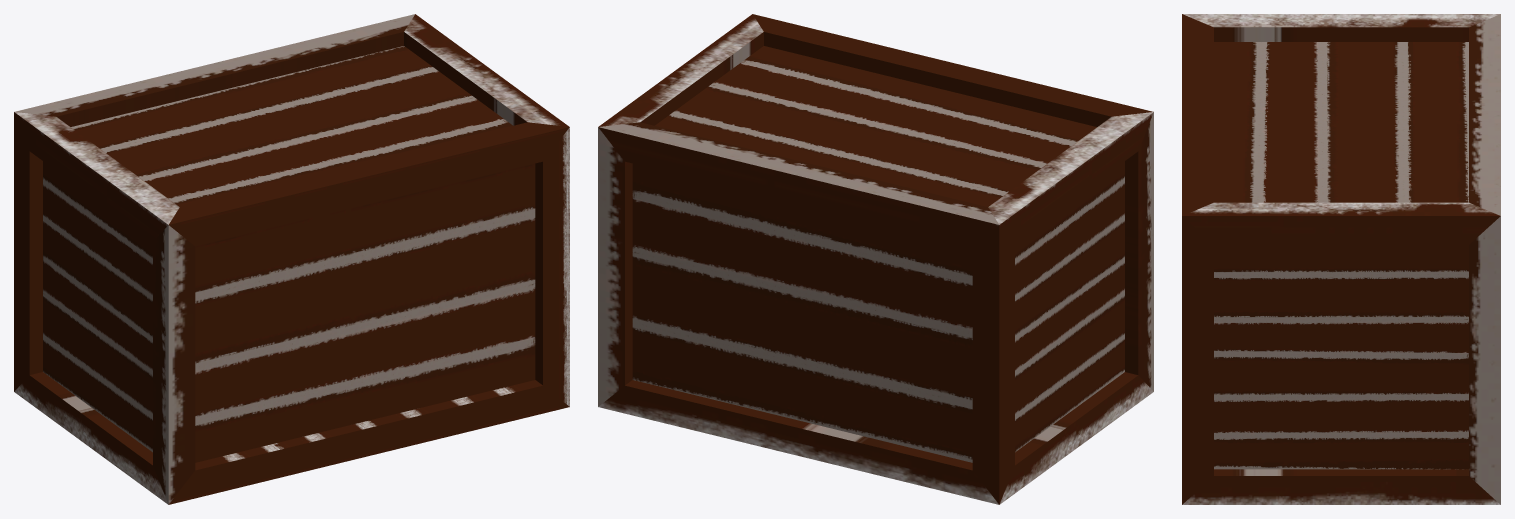
File: snowbox_LOD0.obj
The picture shows the model from 3 angles, left to right: view 1: azimuth 30°, elevation 25°; view 2: azimuth 150°, elevation 25°; view 3: azimuth 270°, elevation 25°; orthographic projection. The views are drawn at different scales.
Parts seen in each view (by area): view 1: Cube_Cube.002; view 2: Cube_Cube.002; view 3: Cube_Cube.002.
Part boxes in pixels (<box>): Cube_Cube.002: <box>14,14,569,504</box>; Cube_Cube.002: <box>598,14,1153,504</box>; Cube_Cube.002: <box>1182,14,1500,504</box>.
Size of the model in its own units: 1.17 by 0.78 by 0.78.
Materials: 2 (2 with a texture image).
